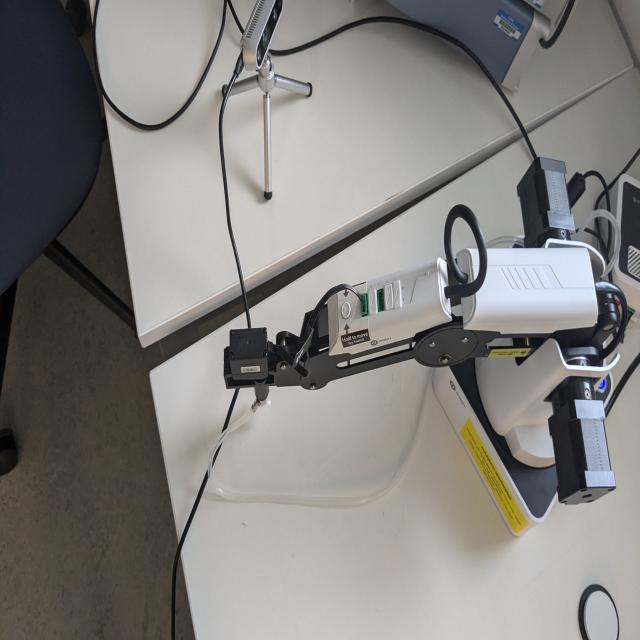Robot-end-effector-HF8z: (222, 321, 278, 423)
